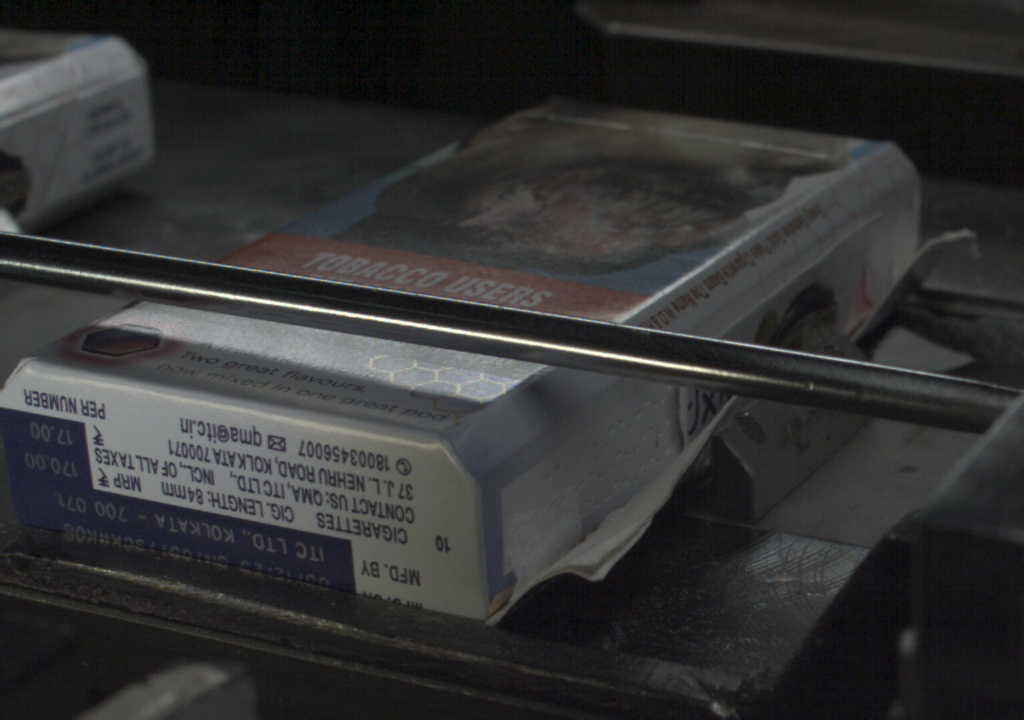g_bottom: (1, 361, 486, 622)
g_label: (3, 489, 354, 592)
g_lmiter: (725, 263, 807, 333), (792, 229, 852, 280)
ng_lmiter: (493, 432, 598, 600), (580, 389, 669, 511)
ng_miter: (869, 182, 918, 222)
price: (1, 415, 88, 487)
